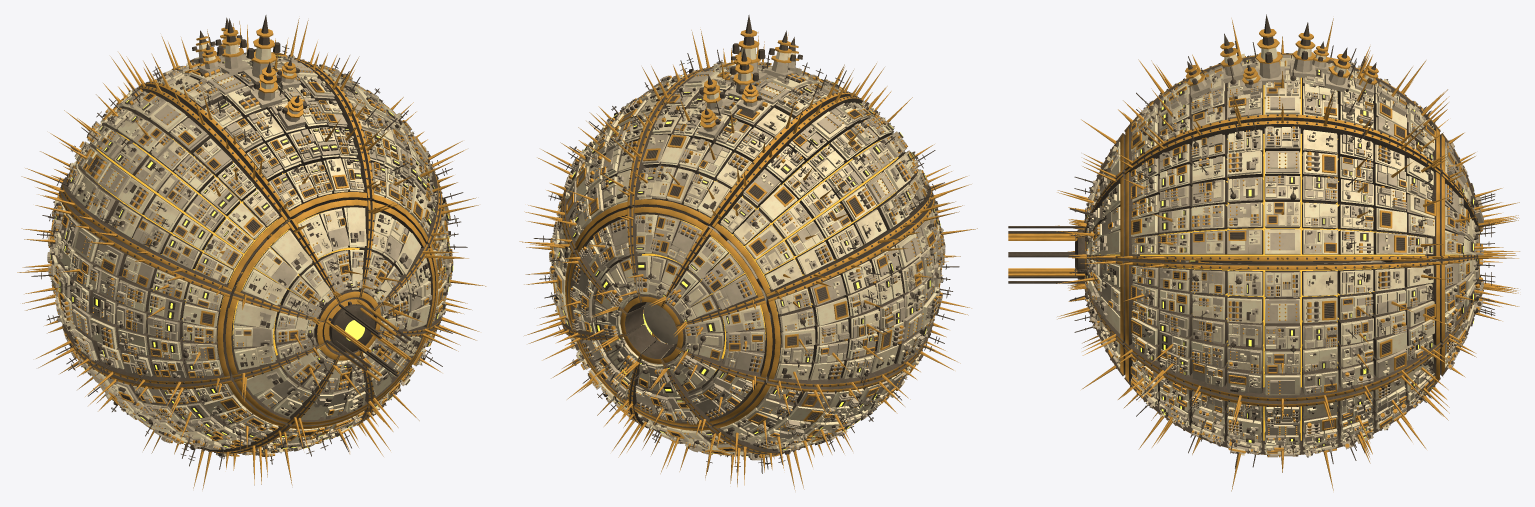
Rendered from weltenkruemmer.aurelianer.rig.glb.
3 renders of one model, left to right at view 1: azimuth 30°, elevation 25°; view 2: azimuth 150°, elevation 25°; view 3: azimuth 270°, elevation 25°, orthographic. The views are drawn at different scales.
Visible parts, largest first — view 1: platte_01, platte_02, platte_00, platte_03, platte_07, klappe_vorn_01, klappe_vorn_02, klappe_vorn_00, tuerme_oben, klappe_vorn_03, klappe_vorn_07, klappe_vorn_04 (+8 smaller); view 2: platte_01, platte_02, platte_00, platte_03, platte_07, klappe_hinten_01, klappe_hinten_02, klappe_hinten_00, tuerme_oben, klappe_hinten_03, klappe_hinten_07, klappe_hinten_04 (+6 smaller); view 3: platte_07, platte_06, platte_05, platte_00, tuerme_oben, klappe_hinten_06, klappe_vorn_07, klappe_vorn_06, klappe_hinten_07, klappe_hinten_00, klappe_vorn_00, spindel_1 (+5 smaller).
Part boxes in pixels (x1,y1,x2,y2): platte_01: [25, 56, 287, 291]; platte_02: [17, 175, 232, 408]; platte_00: [118, 18, 383, 221]; platte_03: [25, 294, 287, 488]; platte_07: [246, 20, 476, 243]; klappe_vorn_01: [227, 217, 341, 324]; klappe_vorn_02: [225, 293, 324, 398]; klappe_vorn_00: [289, 199, 393, 302]; tuerme_oben: [192, 15, 307, 129]; klappe_vorn_03: [234, 343, 341, 449]; klappe_vorn_07: [358, 201, 458, 309]; klappe_vorn_04: [291, 350, 393, 451]; platte_01: [712, 67, 967, 296]; platte_02: [765, 183, 977, 409]; platte_00: [618, 29, 876, 228]; platte_03: [712, 307, 968, 489]; platte_07: [528, 30, 726, 249]; klappe_hinten_01: [651, 224, 770, 334]; klappe_hinten_02: [674, 298, 772, 387]; klappe_hinten_00: [617, 206, 710, 307]; tuerme_oben: [697, 15, 802, 138]; klappe_hinten_03: [650, 344, 764, 434]; klappe_hinten_07: [564, 208, 646, 315]; klappe_hinten_04: [616, 340, 708, 434]; platte_07: [1118, 99, 1448, 261]; platte_06: [1118, 260, 1448, 424]; platte_05: [1118, 346, 1449, 490]; platte_00: [1118, 20, 1448, 170]; tuerme_oben: [1185, 14, 1378, 98]; klappe_hinten_06: [1422, 256, 1518, 343]; klappe_vorn_07: [1056, 166, 1139, 258]; klappe_vorn_06: [1056, 256, 1142, 351]; klappe_hinten_07: [1425, 173, 1518, 258]; klappe_hinten_00: [1439, 133, 1519, 231]; klappe_vorn_00: [1057, 120, 1125, 232]; spindel_1: [1008, 226, 1124, 283].
Bounding box in the file's own units: 2.27 × 2.51 × 2.61.
Materials: 6 (4 with a texture image).
